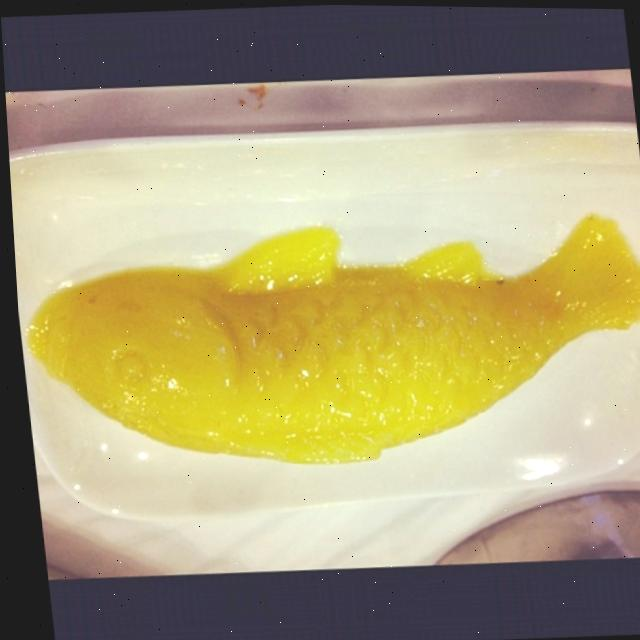蛋糕甜品: (6, 138, 640, 526)
